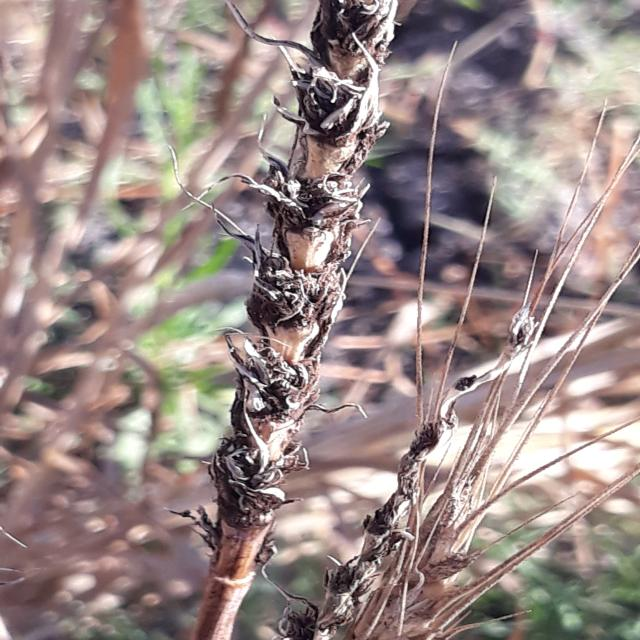loose_charred: (153, 4, 426, 640), (275, 304, 622, 640)
